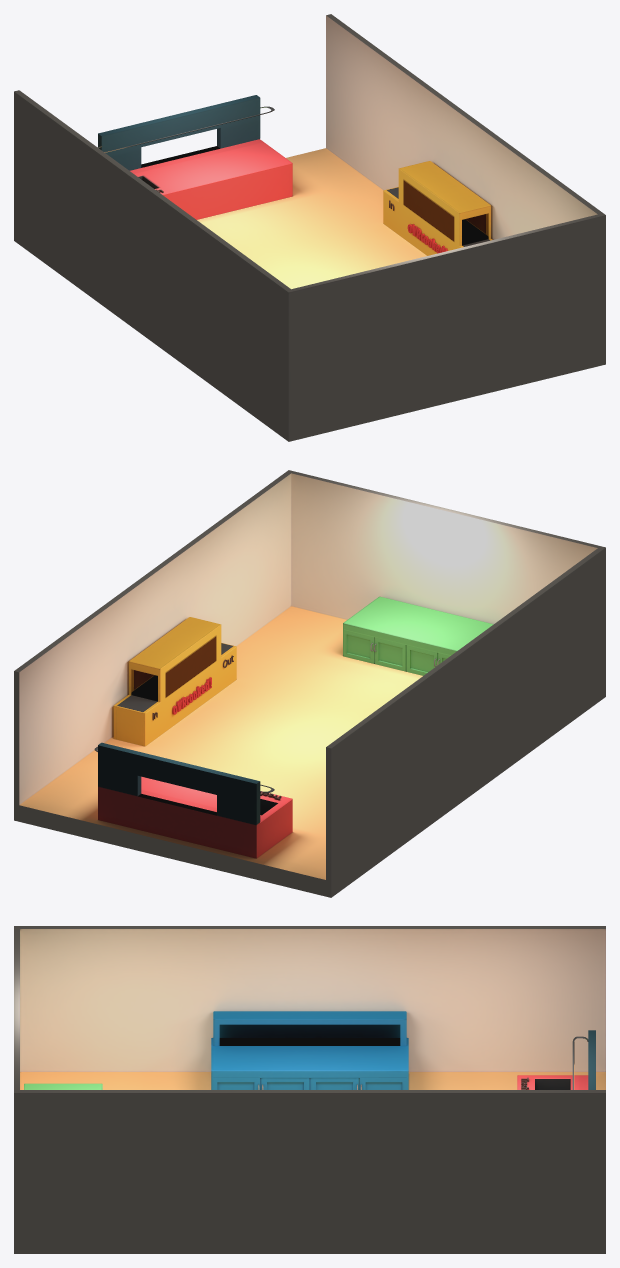
Rendered from Kitchen.glb.
3 views of the same model, one above another, from view 1: azimuth 30°, elevation 25°; view 2: azimuth 150°, elevation 25°; view 3: azimuth 270°, elevation 25° (orthographic). The views are drawn at different scales.
Parts seen in each view (by area): view 1: Room; view 2: Room; view 3: Room.
Boxes of the visible parts, x1,y1,x2,y2 form: Room: (14, 14, 605, 441); Room: (14, 470, 605, 897); Room: (14, 926, 605, 1253).
Size of the model in its own units: 20 by 9 by 30.
Materials: 16 (16 with a texture image).
